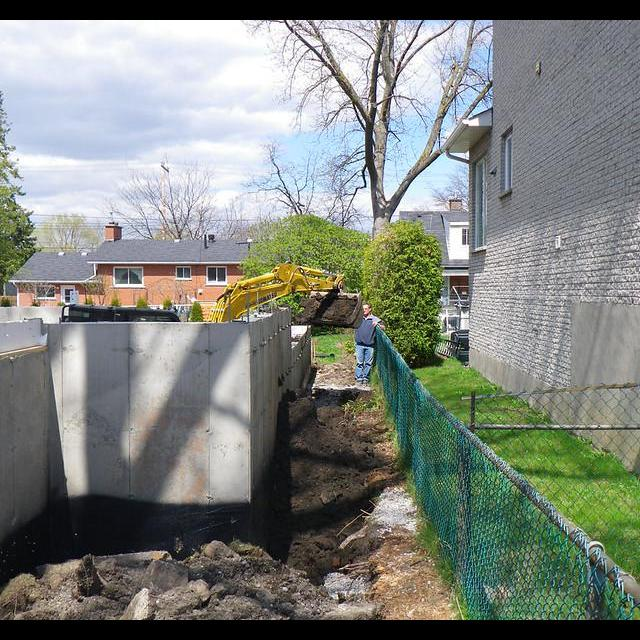Excavator: (209, 260, 366, 331)
NO-Hardhat: (362, 302, 373, 309)
NO-Mask: (363, 310, 373, 316)
NO-Safety Vest: (354, 315, 375, 345)
Person: (353, 302, 386, 382)
truck: (60, 304, 181, 324)
